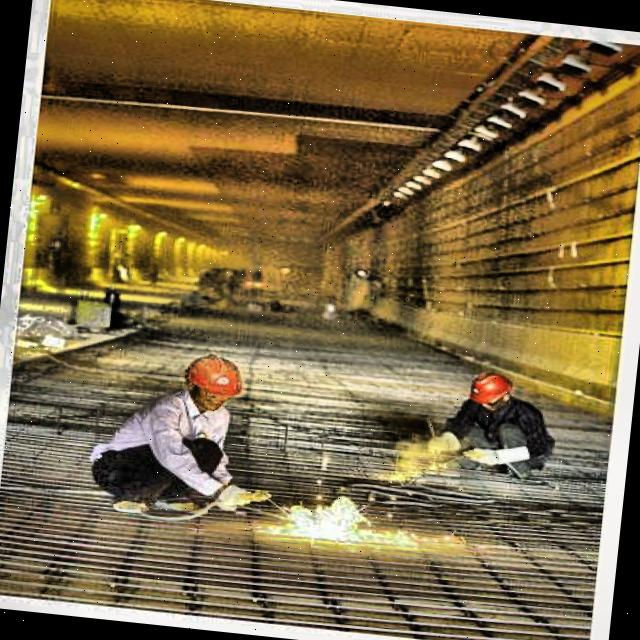helmet: (180, 351, 248, 414), (466, 366, 518, 416)
